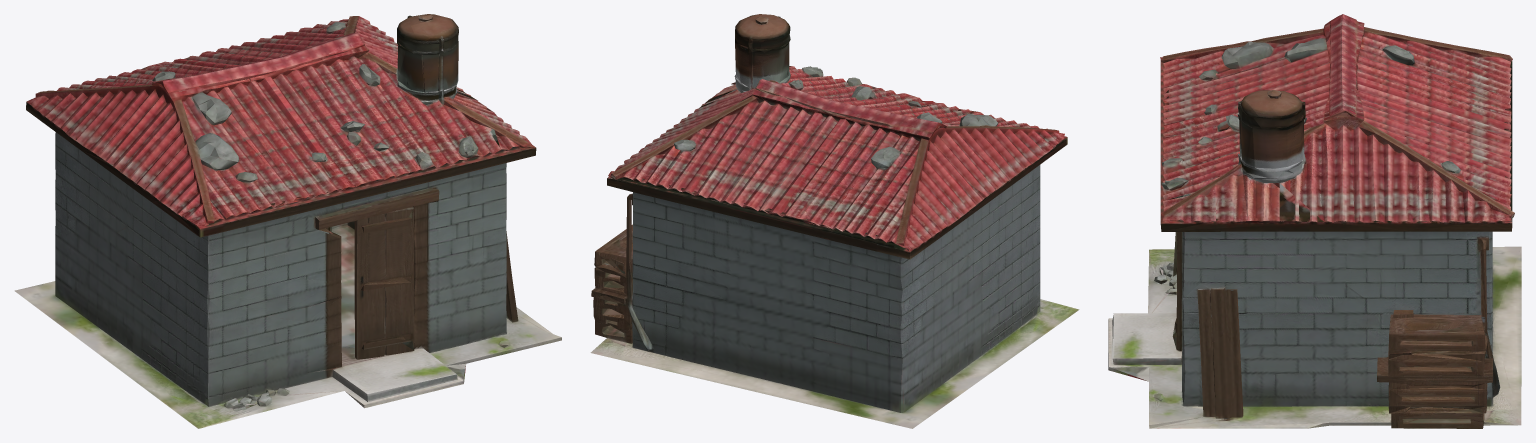
The picture shows the model from 3 angles, left to right: view 1: azimuth 30°, elevation 25°; view 2: azimuth 150°, elevation 25°; view 3: azimuth 270°, elevation 25°; orthographic projection. The views are drawn at different scales.
Visible parts, largest first — view 1: output_unwrapped; view 2: output_unwrapped; view 3: output_unwrapped.
Part boxes in pixels (x1,y1,x2,y2): output_unwrapped: (14,14,561,428); output_unwrapped: (590,14,1079,428); output_unwrapped: (1108,14,1521,428).
Size of the model in its own units: 1.9 by 1.46 by 1.82.
Materials: 1 (1 with a texture image).
